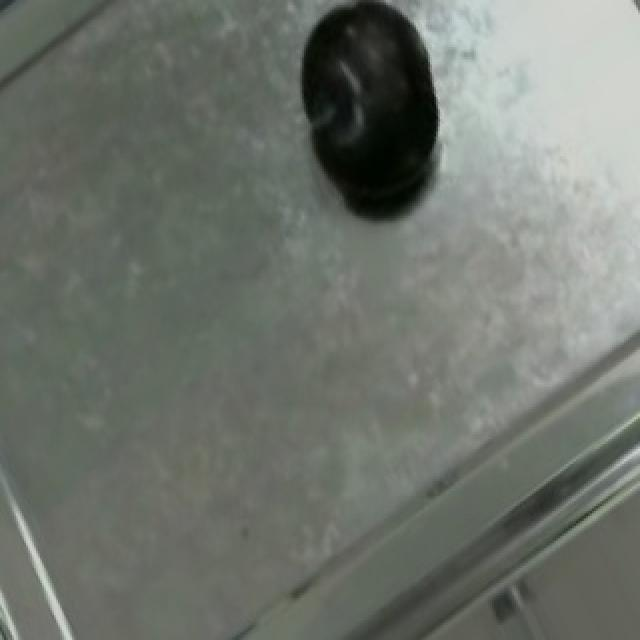Fruit: (280, 0, 460, 226)
